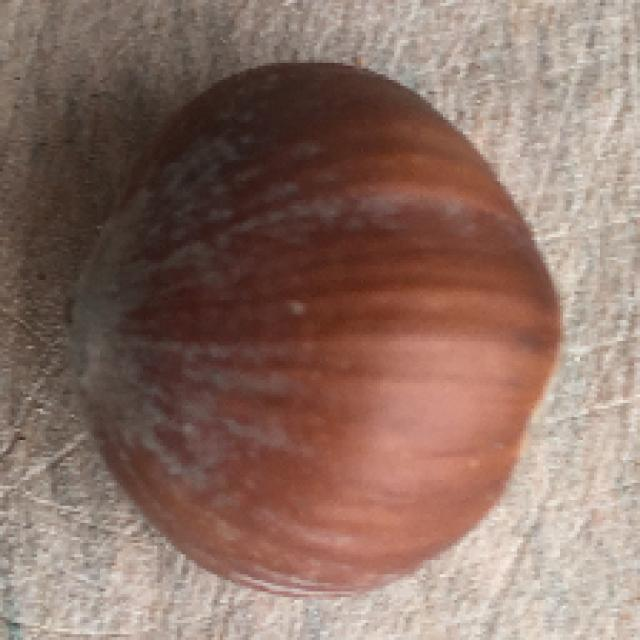qualityHazelnut: (59, 62, 568, 592)
